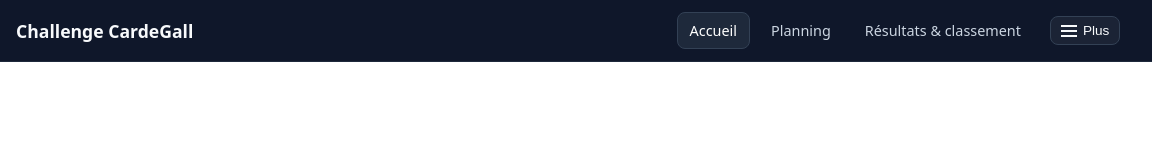
TopBar › after clôture: the "Plus" menu only lists the tabs not already shown in the top bar
The width and height of the screenshot is (1152, 160).
Click the button with aria-label "Plus d'options de navigation".
click(1085, 30)  # box [1050,16,1120,45]
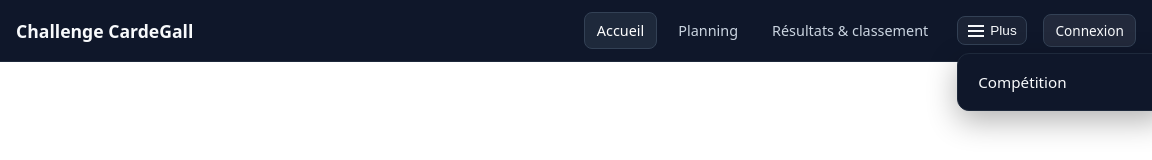
Expected: the menu item "Compétition" is shown, [978,72,1067,92]
